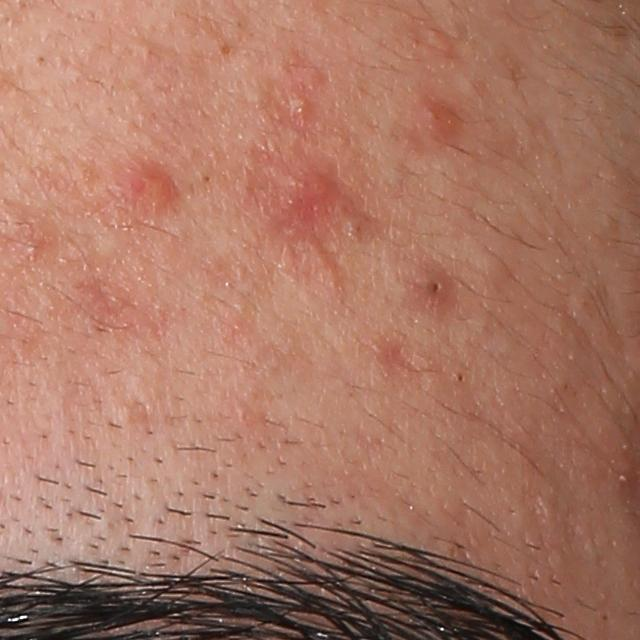comedo: (30, 51, 49, 70), (454, 368, 470, 385)
papule: (260, 156, 344, 233), (113, 164, 186, 211), (400, 262, 462, 314), (424, 97, 469, 146)
